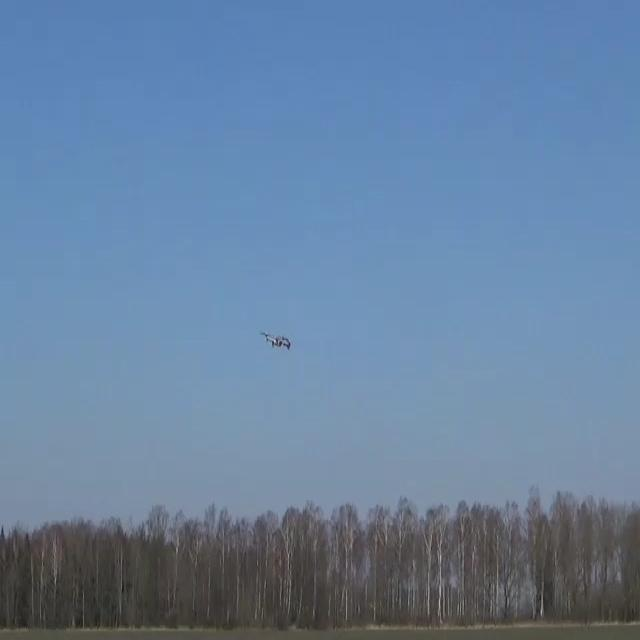drone: (260, 330, 291, 350)
